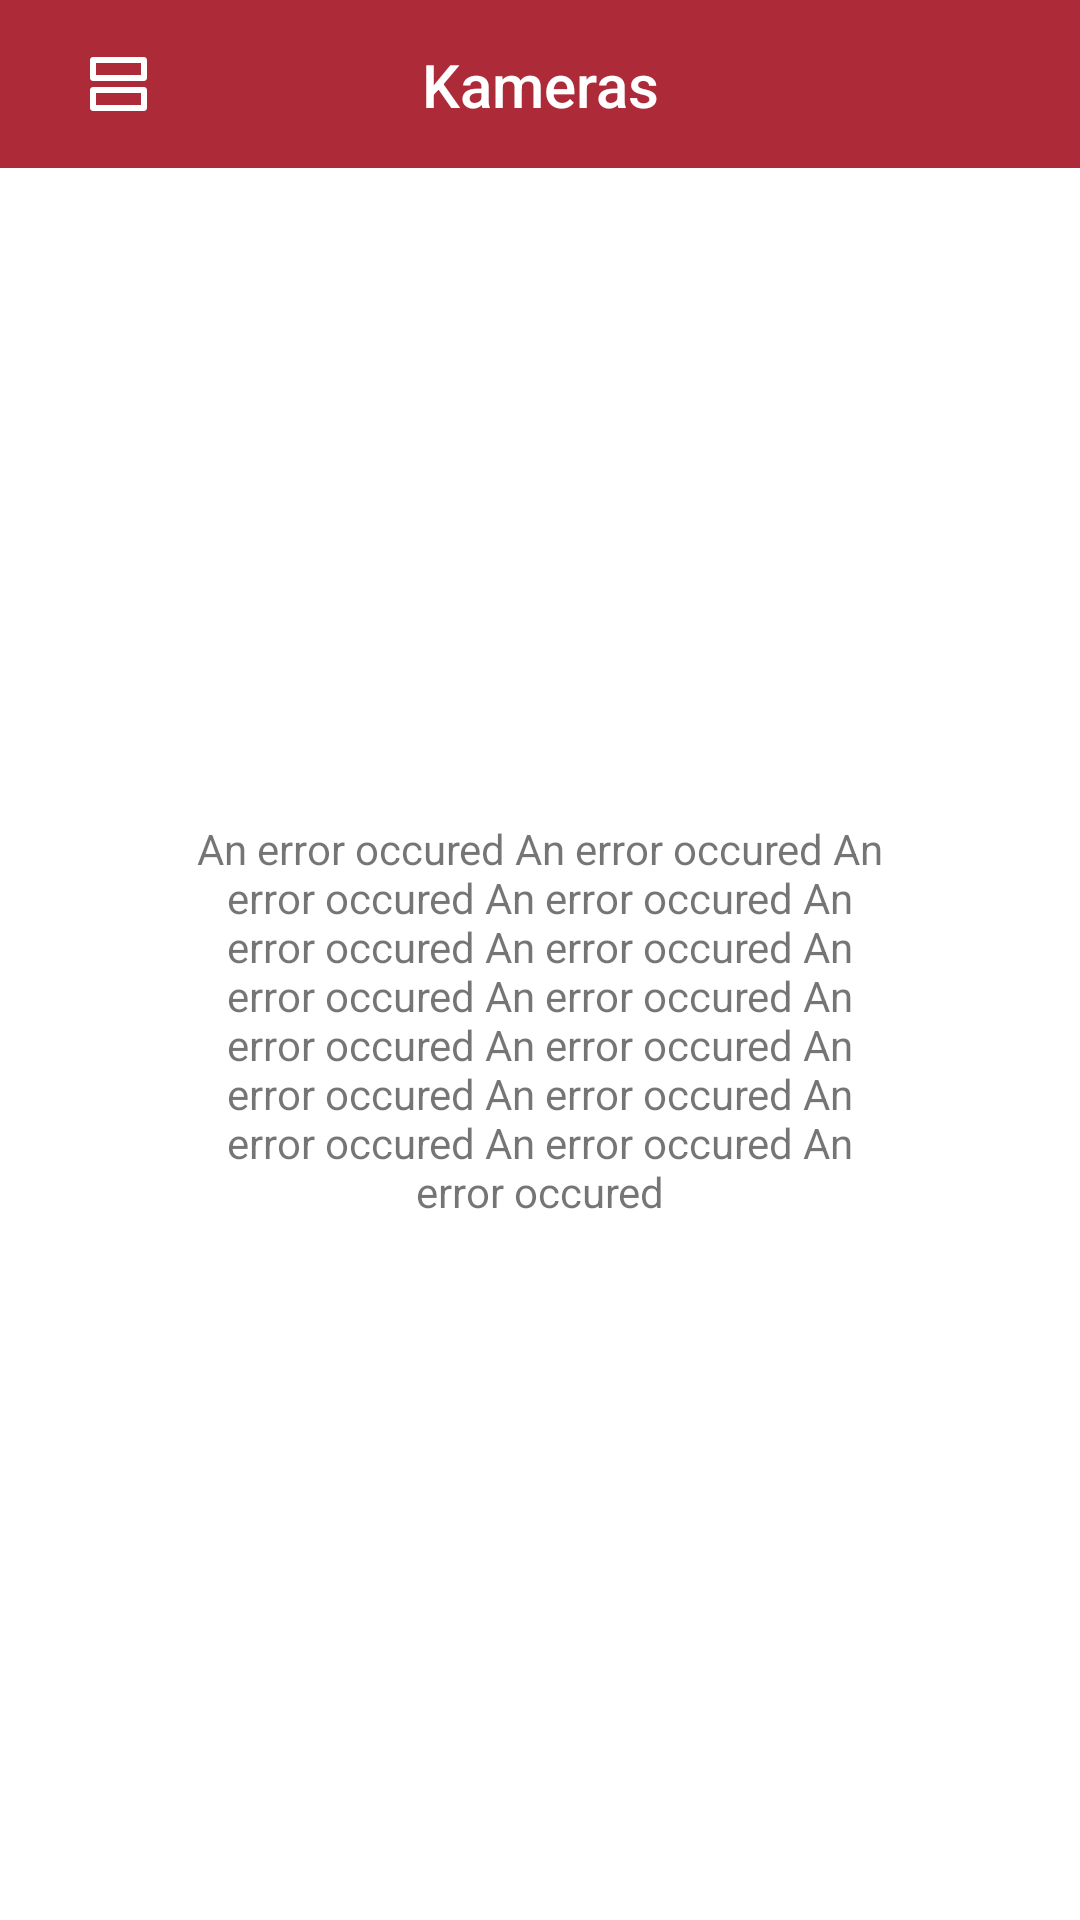

Screen size 1080×1920. Icon name, then its box in pixels as (x1, y1, x2, y2):
view single columns: (90, 57, 147, 111)
